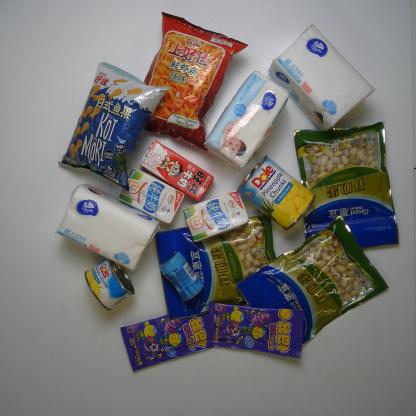Candy: (119, 300, 233, 376), (206, 300, 306, 360)
Canned Food: (236, 150, 317, 234), (81, 253, 138, 314)
Dried Fruit: (233, 212, 390, 352), (288, 121, 402, 252), (150, 213, 286, 322)
Gum: (155, 249, 206, 306)
Milk: (138, 138, 216, 205), (180, 189, 254, 246), (117, 165, 188, 224)
Puffed Food: (132, 10, 252, 152), (56, 57, 178, 192)
Tissue: (266, 21, 379, 136), (54, 182, 166, 274), (200, 66, 291, 173)
